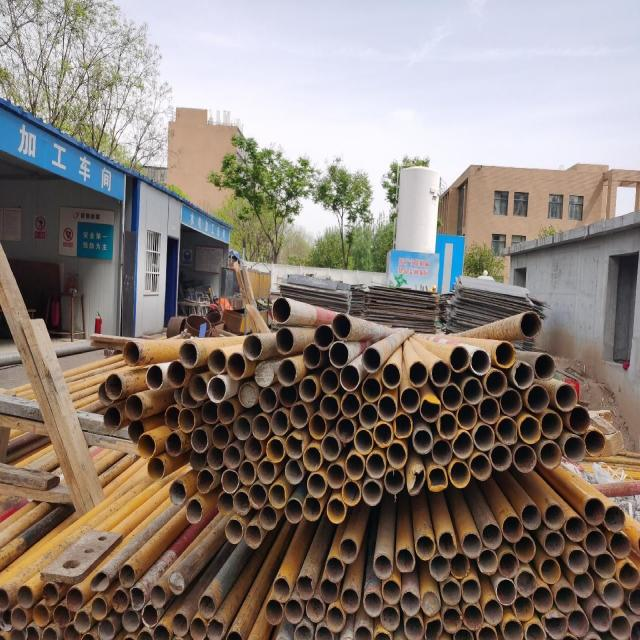pipe: (426, 434, 456, 468), (476, 393, 505, 428), (534, 556, 563, 586), (332, 311, 359, 343), (379, 358, 405, 391), (490, 336, 516, 369), (490, 443, 516, 476), (360, 586, 384, 621), (405, 355, 431, 387), (572, 570, 598, 602), (524, 386, 553, 414), (599, 579, 625, 610), (542, 525, 565, 559), (309, 322, 335, 352), (539, 442, 565, 472), (468, 453, 494, 483), (472, 424, 498, 454), (145, 581, 171, 611), (540, 610, 566, 640), (499, 386, 523, 418), (459, 572, 482, 605), (382, 441, 409, 469), (449, 432, 476, 460), (294, 375, 320, 404), (337, 364, 363, 393), (283, 432, 307, 463), (542, 502, 566, 533), (371, 416, 394, 448), (553, 382, 576, 414), (479, 518, 502, 550), (214, 398, 240, 426), (68, 606, 94, 634), (429, 354, 451, 387), (568, 403, 590, 436), (556, 582, 578, 615), (424, 462, 448, 492), (412, 534, 436, 564), (177, 336, 199, 368), (271, 330, 297, 357), (378, 608, 403, 636), (513, 531, 537, 560), (565, 543, 589, 572), (226, 351, 248, 382), (440, 577, 462, 608), (494, 576, 516, 607), (588, 602, 610, 633), (376, 394, 402, 420), (276, 358, 300, 386), (586, 530, 610, 558), (164, 359, 187, 388), (461, 529, 484, 558), (206, 376, 228, 406), (519, 309, 541, 339), (64, 586, 86, 616), (325, 554, 345, 587), (584, 496, 606, 526), (184, 429, 210, 454), (298, 344, 324, 369), (483, 371, 509, 396), (105, 590, 132, 614), (269, 576, 293, 603), (380, 578, 404, 605), (502, 516, 526, 543), (183, 446, 206, 474), (340, 583, 360, 615), (420, 585, 440, 617), (186, 375, 208, 404), (259, 387, 281, 416), (269, 409, 291, 438), (564, 436, 586, 465), (410, 424, 432, 453), (604, 503, 626, 532), (478, 547, 500, 576), (480, 597, 502, 626), (448, 343, 469, 373), (535, 352, 556, 382), (488, 445, 513, 470), (446, 463, 471, 488), (531, 587, 556, 612), (241, 524, 265, 550), (316, 368, 340, 394), (358, 348, 384, 372), (383, 470, 407, 496), (565, 610, 589, 636), (512, 363, 535, 390), (283, 600, 306, 627), (471, 346, 491, 377), (437, 528, 457, 559), (161, 406, 183, 434), (319, 393, 341, 421), (478, 396, 500, 424), (262, 598, 284, 626), (562, 514, 584, 542), (618, 560, 640, 588), (197, 401, 221, 426), (217, 469, 241, 494), (346, 452, 366, 482), (361, 374, 381, 404), (513, 448, 537, 473), (128, 585, 148, 615), (610, 530, 630, 560), (238, 439, 264, 462), (123, 394, 145, 421), (144, 455, 166, 482), (206, 348, 228, 375), (306, 472, 328, 499), (320, 435, 342, 462), (52, 600, 74, 627), (296, 575, 318, 602), (461, 604, 483, 631), (231, 487, 250, 518), (521, 417, 542, 445), (358, 402, 378, 431), (498, 419, 518, 448), (402, 588, 422, 617), (594, 554, 618, 578), (540, 414, 562, 440), (442, 384, 464, 410), (251, 414, 272, 441), (302, 445, 322, 473), (340, 477, 360, 505), (400, 385, 420, 413), (9, 602, 29, 630), (499, 549, 519, 577), (442, 604, 462, 632), (245, 485, 268, 509), (276, 385, 300, 408), (38, 582, 62, 605), (89, 570, 113, 593), (402, 616, 426, 639), (167, 478, 186, 507), (223, 519, 245, 544), (258, 505, 280, 530), (252, 361, 274, 386), (361, 481, 383, 506), (584, 430, 606, 455), (462, 377, 484, 402), (236, 460, 257, 486), (372, 550, 393, 576), (121, 340, 141, 367), (243, 333, 263, 360), (271, 297, 291, 324), (326, 461, 346, 488), (456, 405, 476, 432), (118, 560, 136, 590), (611, 612, 631, 639), (302, 598, 325, 621), (220, 445, 244, 467), (184, 617, 208, 639), (306, 414, 327, 439), (421, 396, 442, 421), (135, 434, 155, 460), (355, 429, 375, 455), (12, 586, 38, 606), (30, 604, 50, 630), (256, 460, 278, 483), (88, 598, 110, 621), (501, 616, 523, 639), (104, 371, 122, 399), (144, 364, 165, 388), (395, 546, 413, 574), (511, 597, 532, 621), (125, 419, 145, 444), (194, 469, 214, 494), (283, 499, 303, 524), (326, 497, 346, 522), (140, 603, 160, 628), (168, 611, 188, 636), (103, 406, 122, 432), (408, 467, 425, 496), (216, 491, 234, 518), (210, 426, 230, 450), (238, 383, 258, 407), (95, 616, 115, 640), (96, 383, 114, 409), (234, 415, 252, 441), (340, 392, 358, 418), (264, 440, 284, 463), (335, 416, 355, 439), (302, 495, 321, 519), (177, 406, 195, 431), (196, 592, 214, 617), (340, 536, 358, 561), (521, 503, 539, 528), (268, 482, 288, 504), (283, 459, 303, 481), (184, 498, 202, 522), (365, 452, 383, 476), (169, 571, 187, 595), (291, 404, 309, 427), (205, 618, 223, 639), (293, 622, 315, 639), (423, 619, 441, 639), (165, 432, 181, 454), (525, 623, 547, 639), (205, 449, 222, 469), (351, 623, 372, 639), (122, 614, 140, 632), (475, 625, 497, 639), (630, 587, 640, 617), (315, 625, 336, 639), (0, 586, 12, 610), (170, 386, 185, 405), (0, 610, 16, 626), (24, 625, 42, 639), (64, 624, 78, 640), (153, 625, 168, 639), (8, 629, 26, 639), (224, 630, 241, 639)
